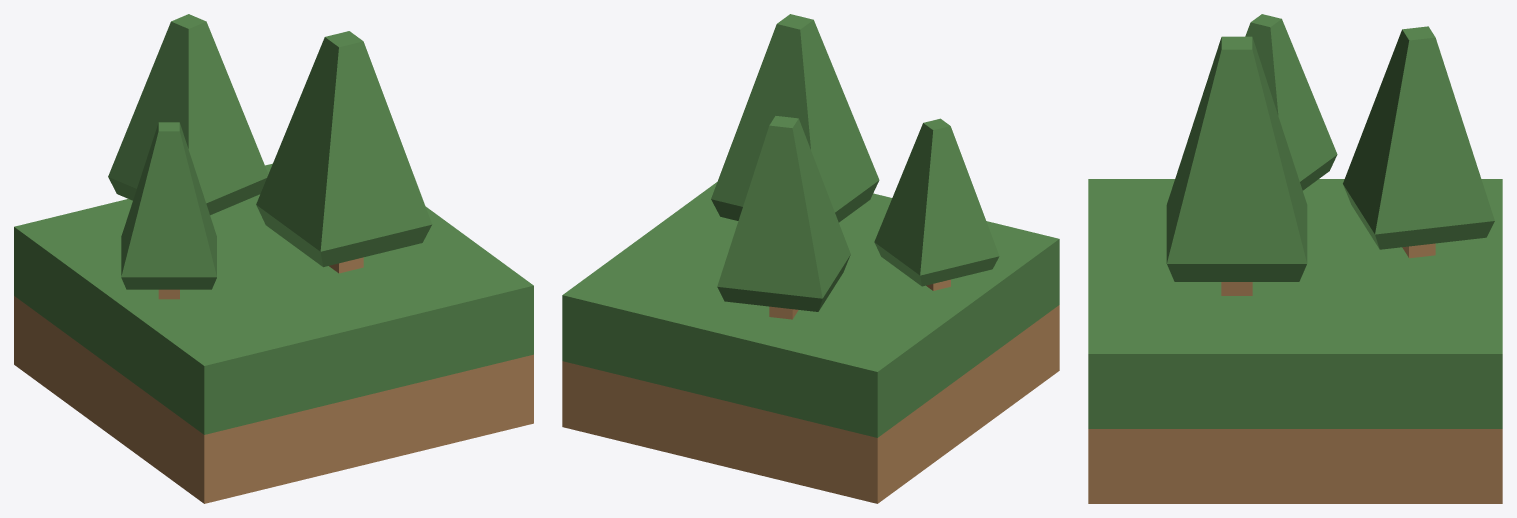
The model's file is tile_062.fbx.
3 views of the same model, side by side, from view 1: azimuth 30°, elevation 25°; view 2: azimuth 150°, elevation 25°; view 3: azimuth 270°, elevation 25° (orthographic). The views are drawn at different scales.
Visible parts, largest first — view 1: tile_062, Component#2 (×3); view 2: tile_062, Component#2 (×3); view 3: tile_062, Component#2 (×3).
Boxes of the visible parts, left/top/right/bottom form: tile_062: left=14, top=163, right=533, bottom=503; Component#2 (×3): left=108, top=14, right=432, bottom=299; tile_062: left=562, top=182, right=1059, bottom=503; Component#2 (×3): left=711, top=14, right=999, bottom=319; tile_062: left=1088, top=179, right=1502, bottom=503; Component#2 (×3): left=1166, top=14, right=1494, bottom=295.
Size of the model in its own units: 10.31 by 10.56 by 10.
